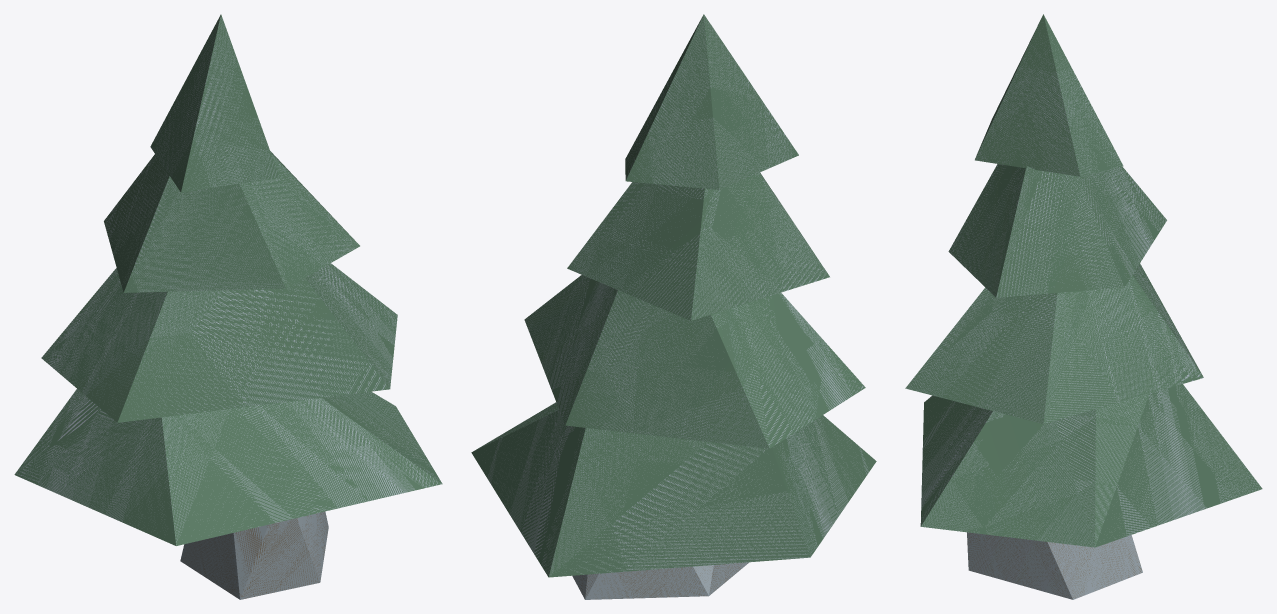
Rendered from Tree_Pine_02.fbx.
The picture shows the model from 3 angles, left to right: view 1: azimuth 30°, elevation 25°; view 2: azimuth 150°, elevation 25°; view 3: azimuth 270°, elevation 25°; orthographic projection. The views are drawn at different scales.
Parts seen in each view (by area): view 1: Model; view 2: Model; view 3: Model.
Part boxes in pixels (x1,y1,x2,y2): Model: (14,14,442,599); Model: (471,14,876,599); Model: (905,14,1262,599).
Bounding box in the file's own units: 288 × 426 × 261.
